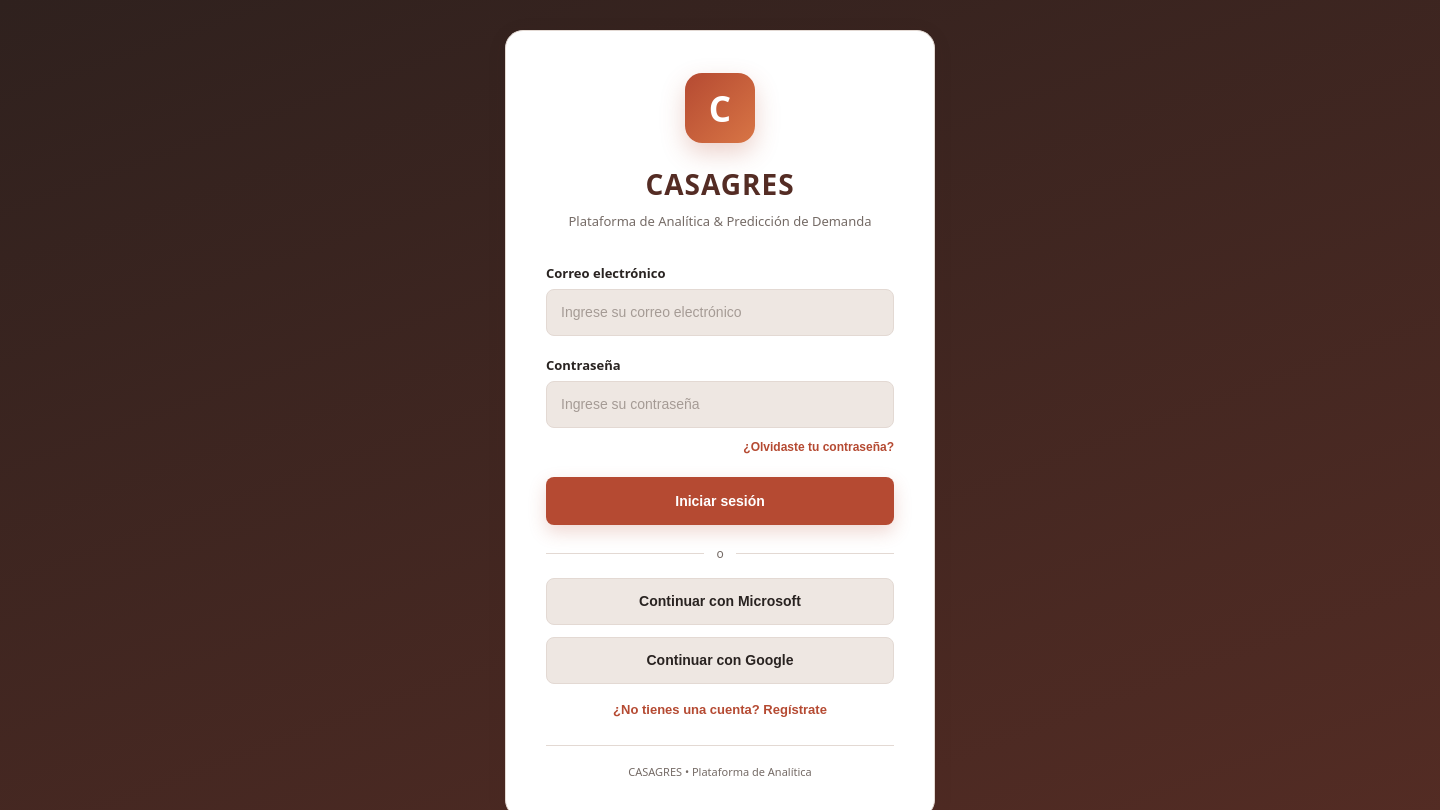
Test case: Login › valida que correo y contraseña sean obligatorios
What coordinates should you click on to do the following:
click the button "Iniciar sesión"
I would click on:
 (720, 500)
Its box is [546,476,894,524].
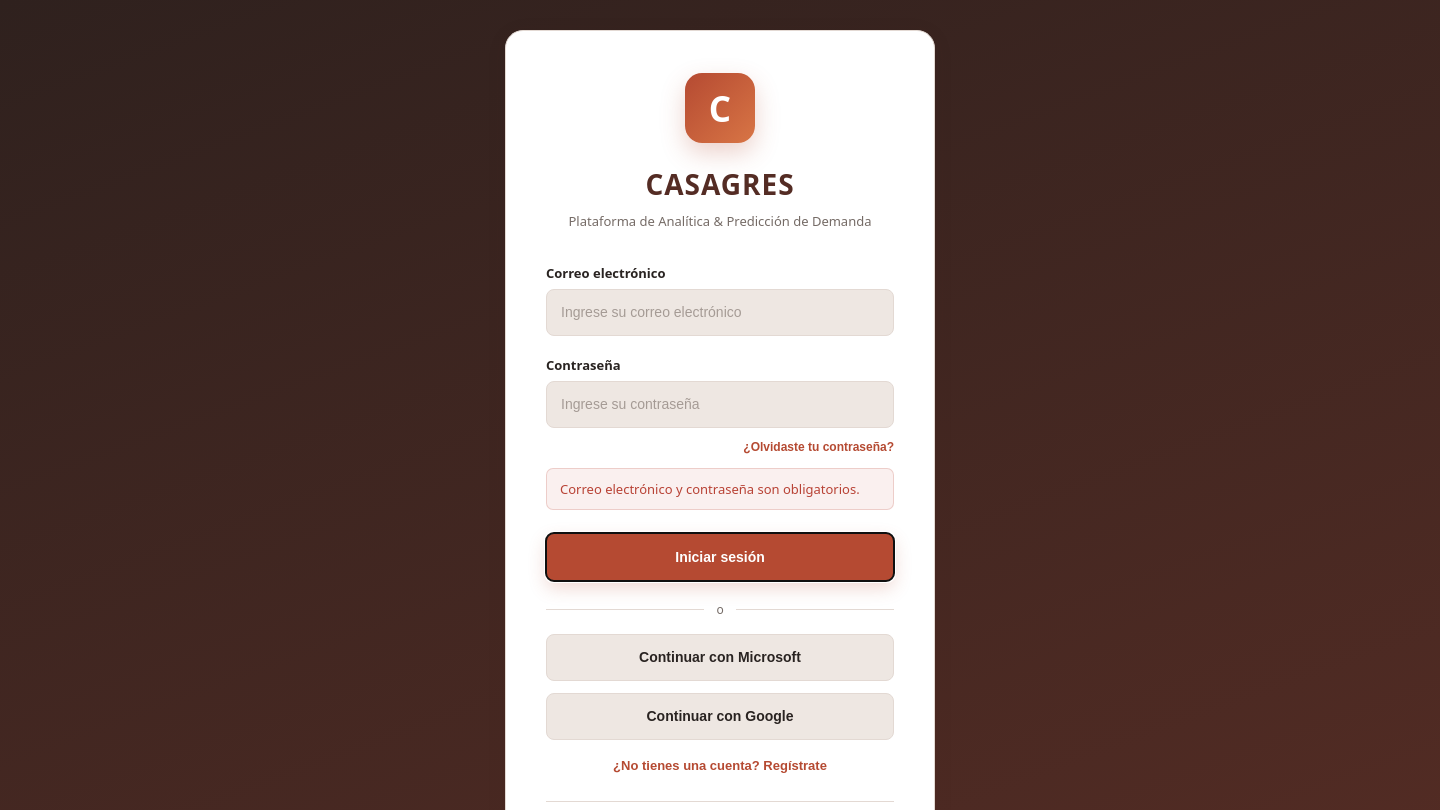
Result: the text "Correo electrónico y contraseña son obligatorios." is shown at [546,468,894,510]
